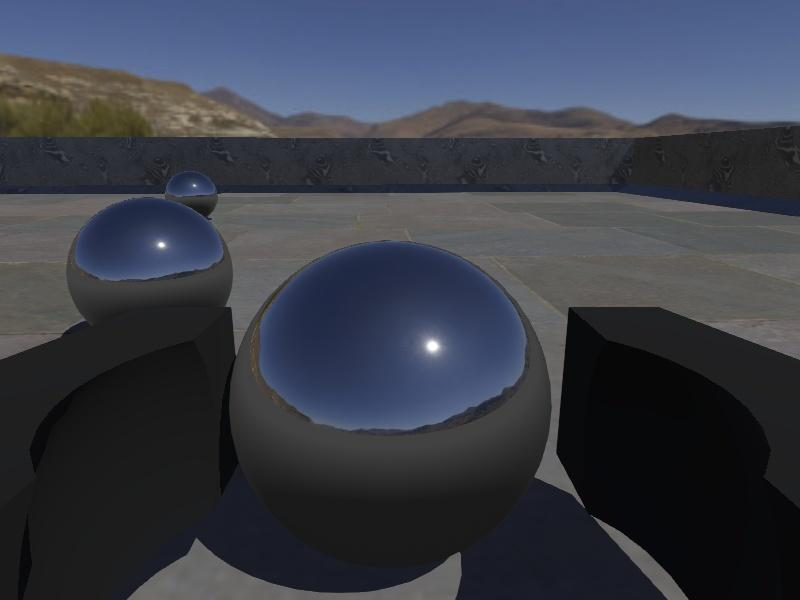steel ball: (228, 241, 553, 573)
